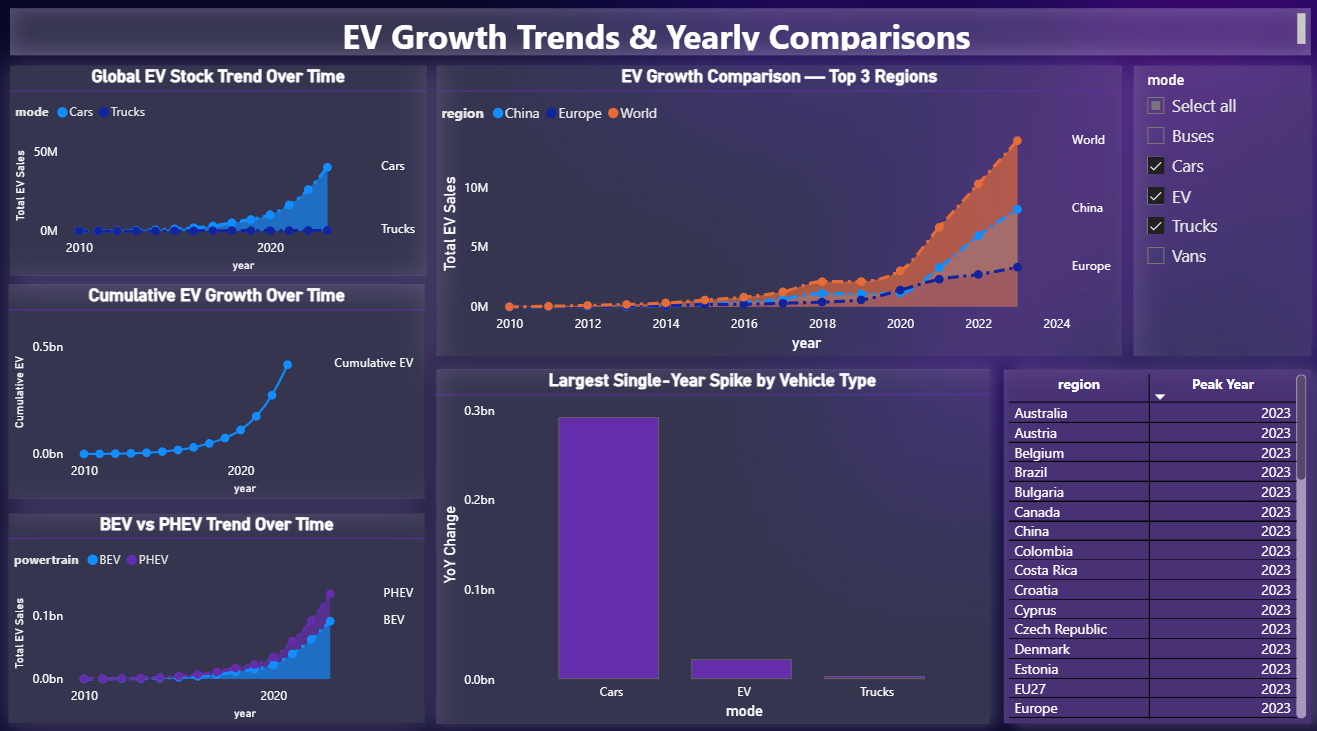

The dashboard page shown, as its layout file describes it:
{"tool":"powerbi","page":{"name":"Yearly trends","canvas":[1280,720],"ordinal":3},"visuals":[{"type":"lineChart","title":"Global EV Stock Trend Over Time","fields":{"Category":["IEA Global EV Data 2024.year"],"Y":["IEA Global EV Data 2024.Total EV Sales"],"Series":["IEA Global EV Data 2024.mode"]},"box":[14.4,66.7,402.2,202.2],"z":0},{"type":"pivotTable","title":"Latest Peak Year Observed by Region","fields":{"Rows":["IEA Global EV Data 2024.region"],"Values":["IEA Global EV Data 2024.Peak Year"]},"box":[973.6,359.5,296.8,341.4],"z":1000},{"type":"clusteredColumnChart","title":"Largest Single-Year Spike by Vehicle Type","fields":{"Category":["IEA Global EV Data 2024.mode"],"Y":["IEA Global EV Data 2024.YoY Change"]},"box":[425.9,359.5,533.2,341.4],"z":2000},{"type":"lineChart","title":"Cumulative EV Growth Over Time","fields":{"Category":["IEA Global EV Data 2024.year"],"Y":["IEA Global EV Data 2024.Cumulative EV"]},"box":[13.3,277.5,401.7,206.3],"z":3000},{"type":"lineChart","title":"EV Growth Comparison — Top 3 Regions","fields":{"Category":["IEA Global EV Data 2024.year"],"Y":["IEA Global EV Data 2024.Total EV Sales"],"Series":["IEA Global EV Data 2024.region"]},"box":[425.6,66.7,662.2,280],"z":4000},{"type":"textbox","box":[14.4,11.1,1255.6,45.6],"z":5000},{"type":"stackedAreaChart","title":"BEV vs PHEV Trend Over Time","fields":{"Category":["IEA Global EV Data 2024.year"],"Y":["IEA Global EV Data 2024.Total EV Sales"],"Series":["IEA Global EV Data 2024.powertrain"]},"box":[13.3,498.3,401.7,202.7],"z":6000},{"type":"slicer","fields":{"Values":["IEA Global EV Data 2024.mode"]},"box":[1098.9,66.7,171.1,280],"z":7000}]}

Visuals, with their boxes in screenshot pixels (x1, y1, x2, y2), scaled from the page's 1280x720 canvas onto the 1317x731 screenshot:
"Global EV Stock Trend Over Time" lineChart: <bbox>15, 68, 429, 273</bbox>
"Latest Peak Year Observed by Region" pivotTable: <bbox>1002, 365, 1307, 712</bbox>
"Largest Single-Year Spike by Vehicle Type" clusteredColumnChart: <bbox>438, 365, 987, 712</bbox>
"Cumulative EV Growth Over Time" lineChart: <bbox>14, 282, 427, 491</bbox>
"EV Growth Comparison — Top 3 Regions" lineChart: <bbox>438, 68, 1119, 352</bbox>
textbox: <bbox>15, 11, 1307, 58</bbox>
"BEV vs PHEV Trend Over Time" stackedAreaChart: <bbox>14, 506, 427, 712</bbox>
slicer - IEA Global EV Data 2024.mode: <bbox>1131, 68, 1307, 352</bbox>
